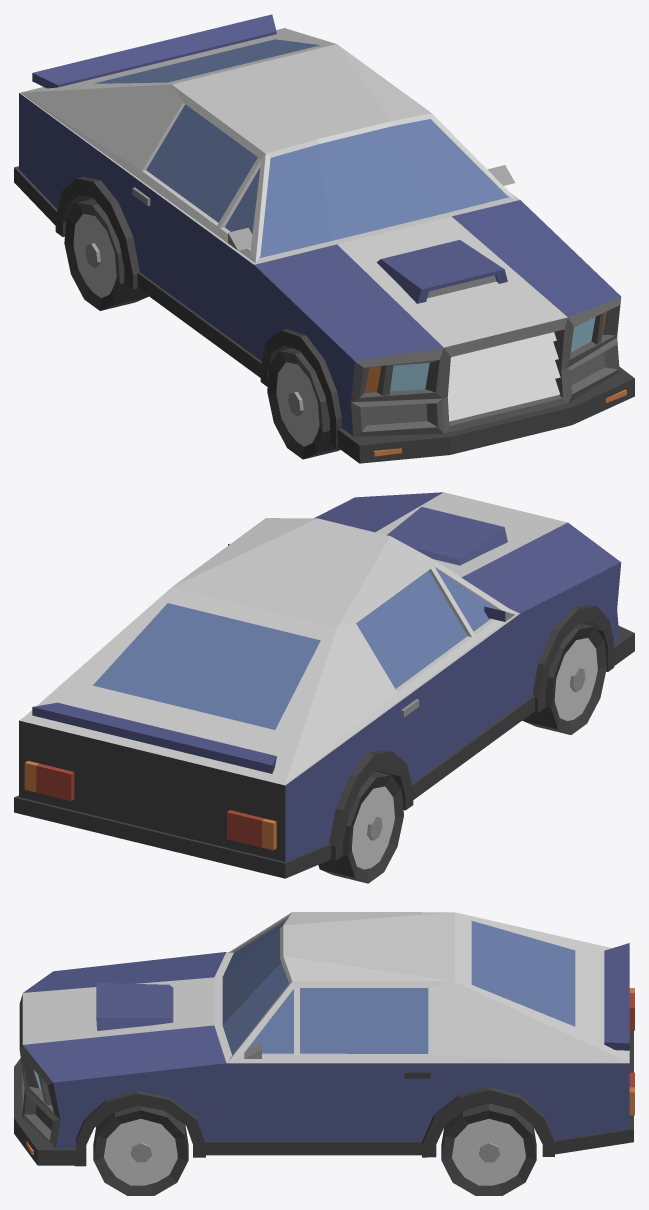
Rendered from transport_jeep_007.glb.
The picture shows the model from 3 angles, top to bottom: view 1: azimuth 30°, elevation 25°; view 2: azimuth 150°, elevation 25°; view 3: azimuth 270°, elevation 25°; orthographic projection. The views are drawn at different scales.
Parts seen in each view (by area): view 1: transport_jeep_007; view 2: transport_jeep_007; view 3: transport_jeep_007.
Part boxes in pixels (x1=…): transport_jeep_007: x1=14, y1=14, x2=634, y2=463; transport_jeep_007: x1=14, y1=492, x2=634, y2=883; transport_jeep_007: x1=14, y1=912, x2=634, y2=1195.
Size of the model in its own units: 1.67 by 1.28 by 3.68.
Materials: 1 (1 with a texture image).
